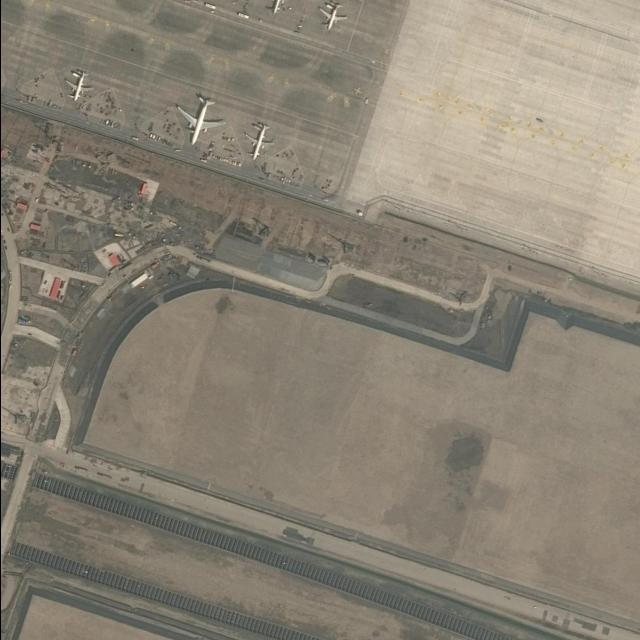Aircraft: (173, 92, 218, 144), (243, 121, 273, 159), (64, 68, 94, 106), (318, 0, 346, 34), (263, 0, 293, 16)
